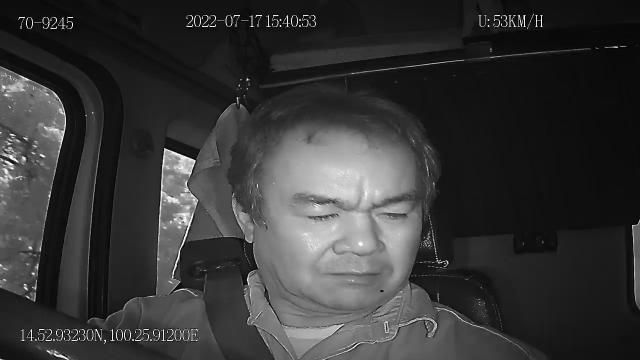SafeDriving: (292, 200, 348, 228)
Seatbelt: (202, 264, 278, 360)
